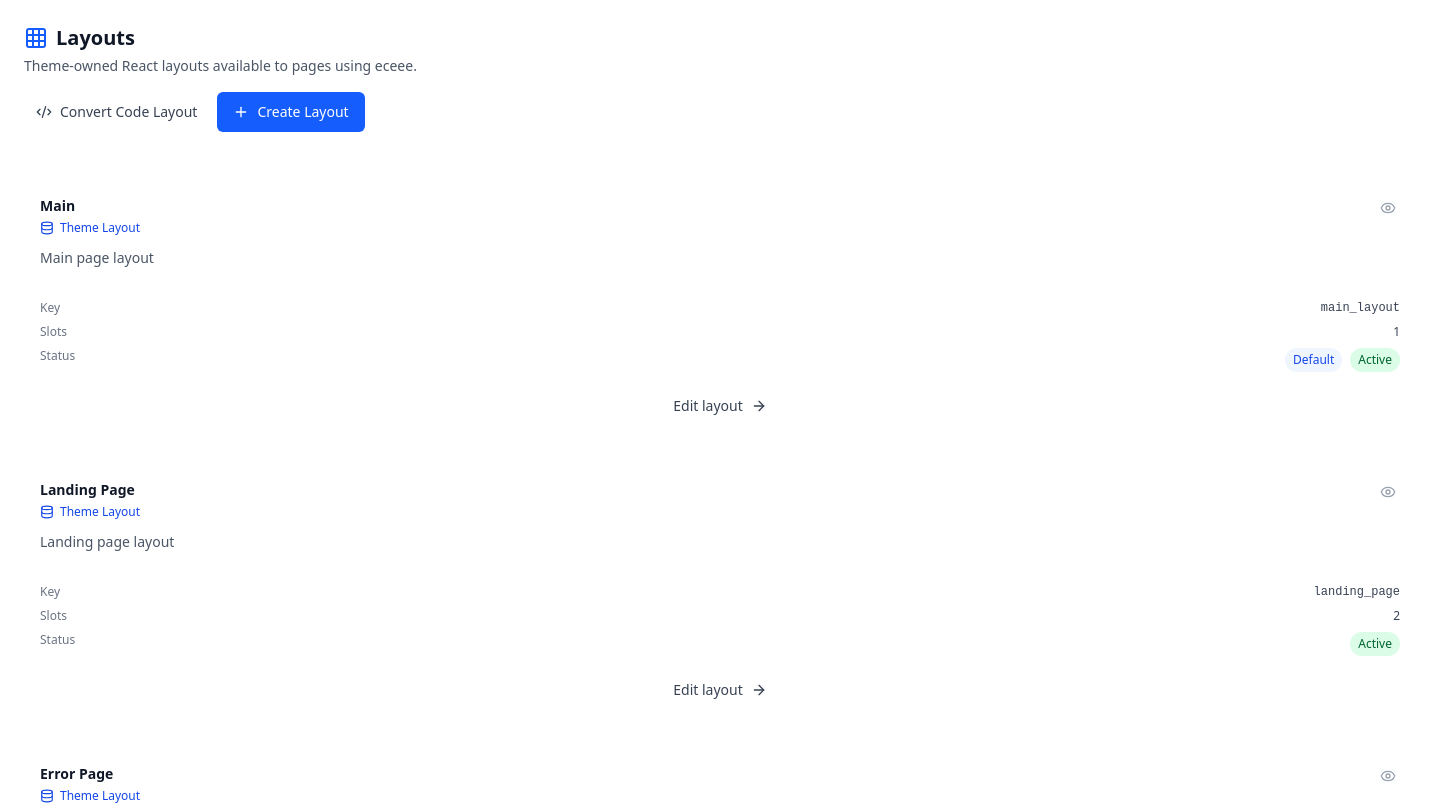
Test case: LayoutEditor › offers to update registered code layouts that already have Theme Layouts
Step 1. Click the button "Convert Code Layout" → x=117, y=112, box [24,92,209,132]
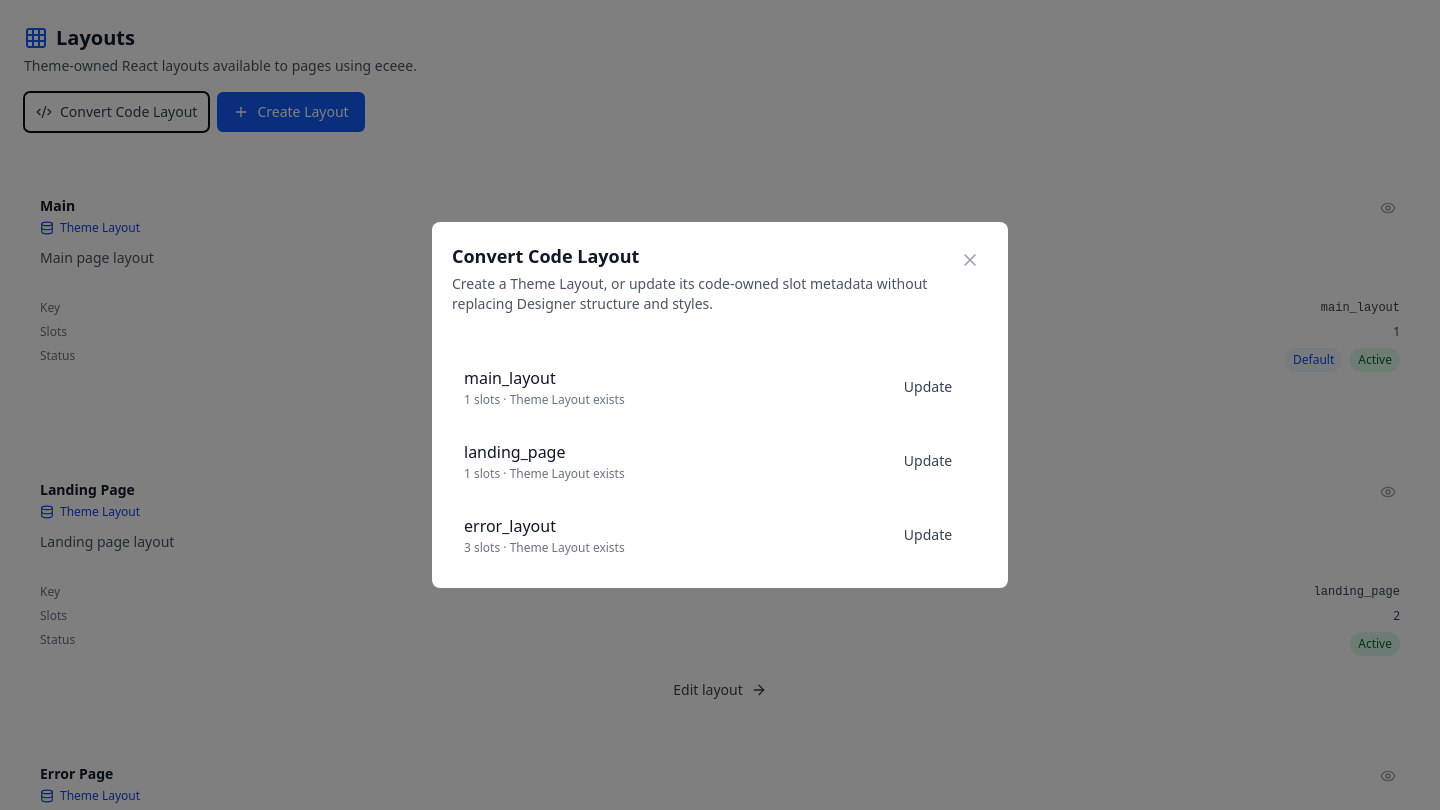
Expected: the dialog "Convert Code Layout" is shown
Expected: the button with aria-label "Update main_layout" is enabled, [880,369,976,405]
Expected: the button with aria-label "Update landing_page" is enabled, [880,443,976,479]
